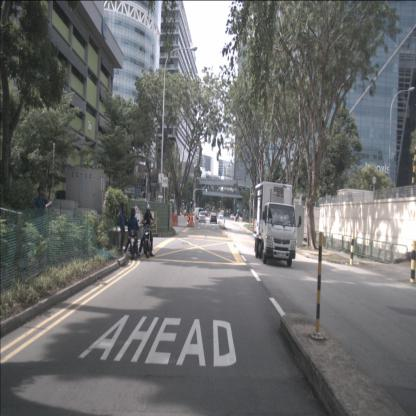barrier: (166, 215, 178, 226), (178, 215, 188, 227), (190, 216, 194, 227), (194, 215, 197, 223)
cone: (191, 220, 194, 228)
